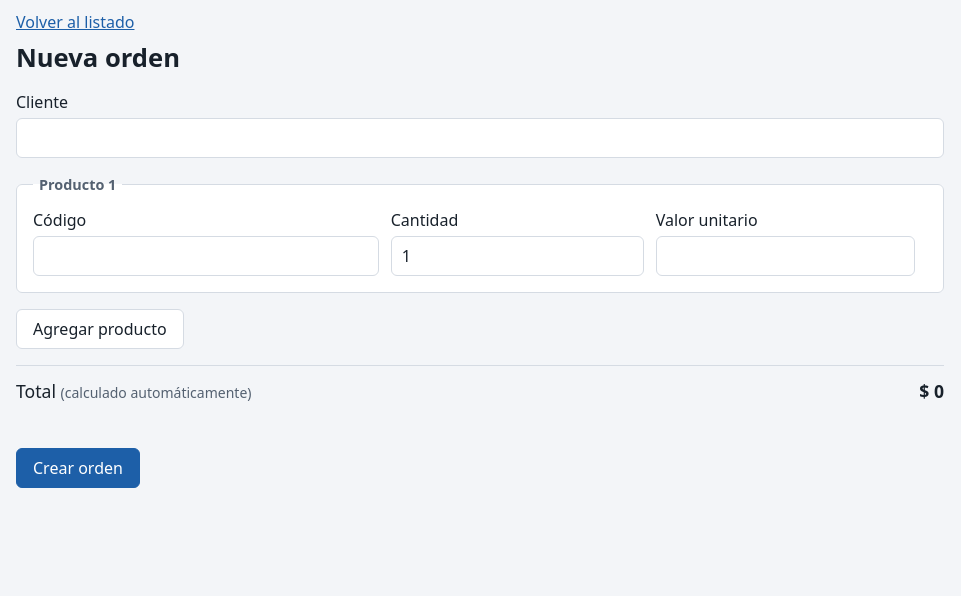
NuevaOrden › muestra junto al campo el error de validación que devuelve la API
The width and height of the screenshot is (961, 596).
Click the button with test id "btn-crear-orden".
click(78, 468)  # box [16,448,140,488]
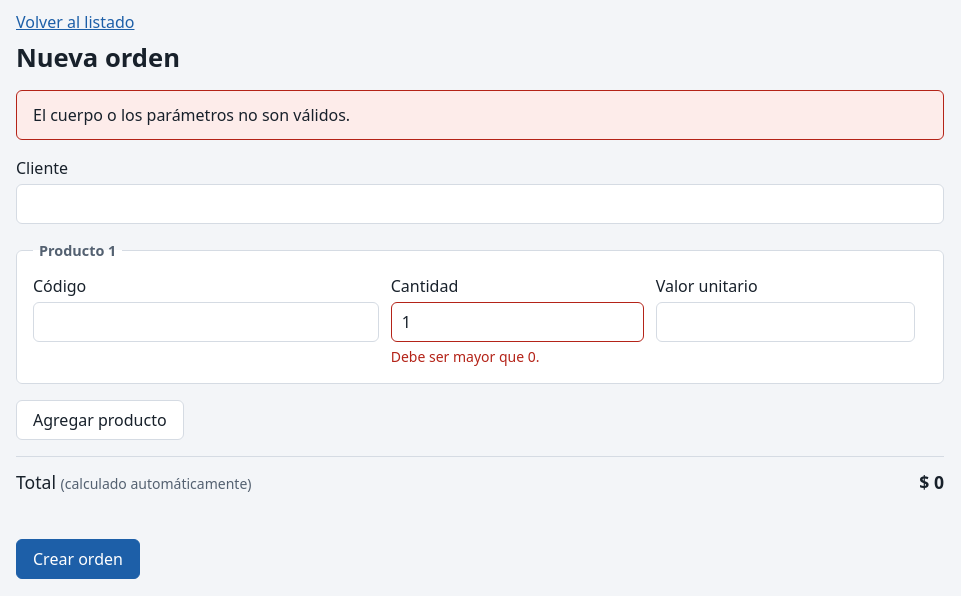
Result: the text "Debe ser mayor que 0." is shown at [391,347,540,366]
